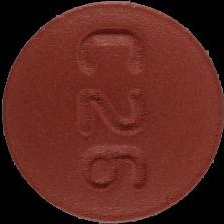33342-061: (0, 0, 224, 224)
